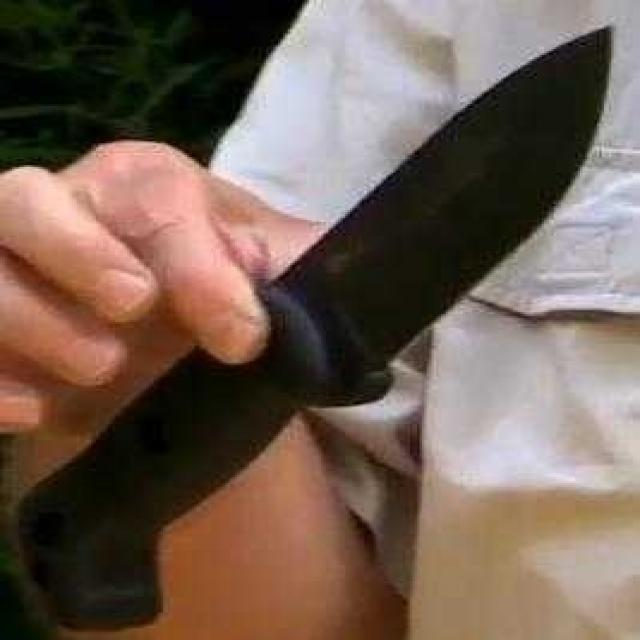knife: (7, 4, 640, 640), (632, 634, 633, 637)
